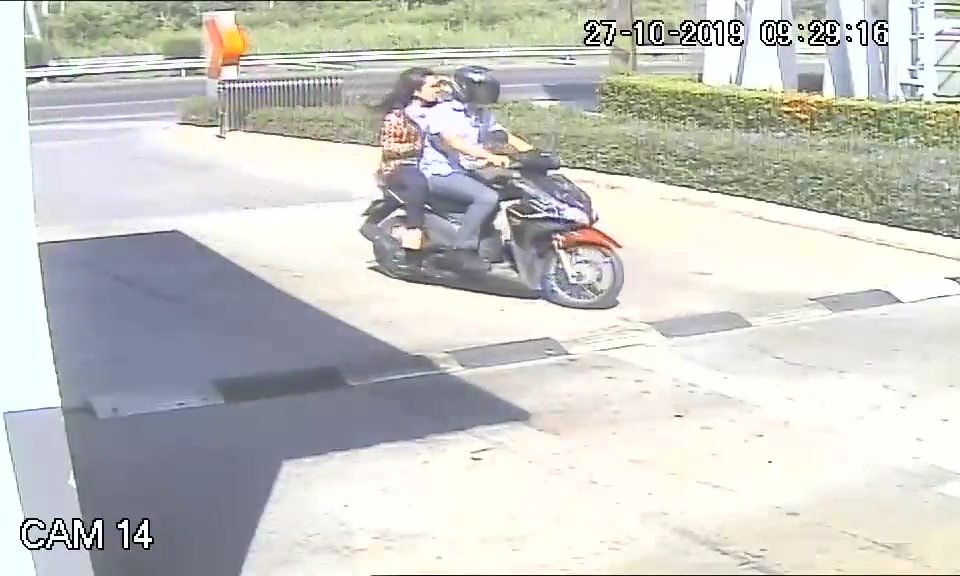motorcycle: (363, 153, 623, 313)
